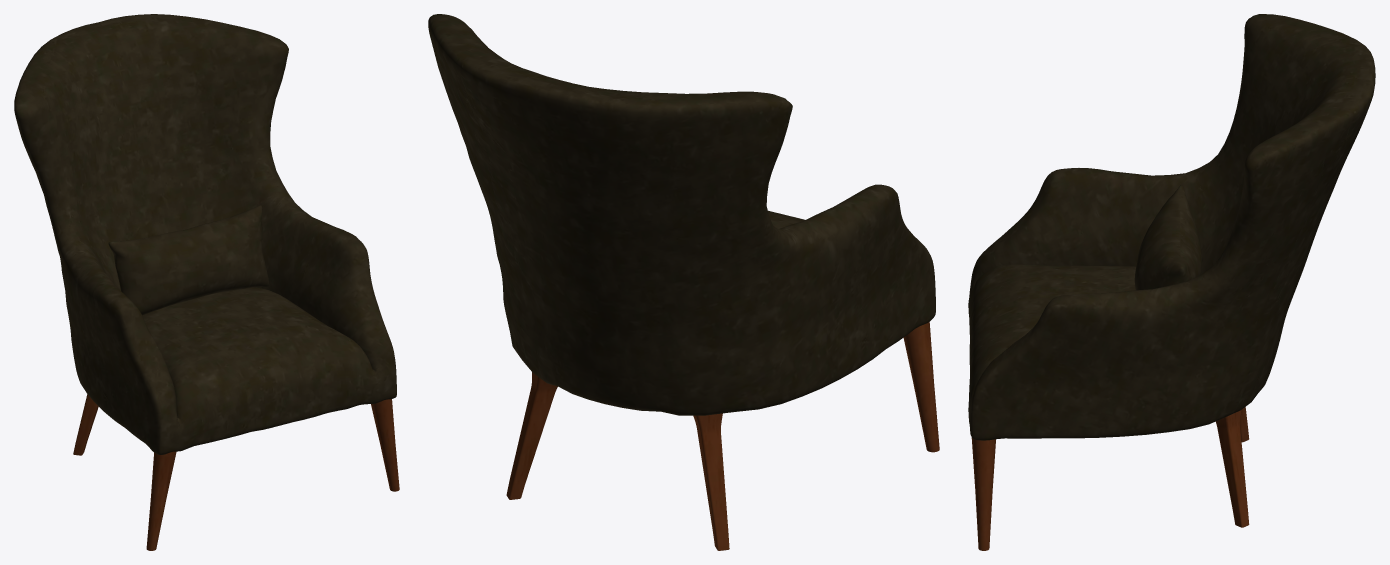
The model's file is abo-B075X33T21.glb.
The picture shows the model from 3 angles, left to right: view 1: azimuth 30°, elevation 25°; view 2: azimuth 150°, elevation 25°; view 3: azimuth 270°, elevation 25°; orthographic projection. The views are drawn at different scales.
Bounding box in the file's own units: 0.819 × 1.07 × 0.954.
1 material, 1 textured.
